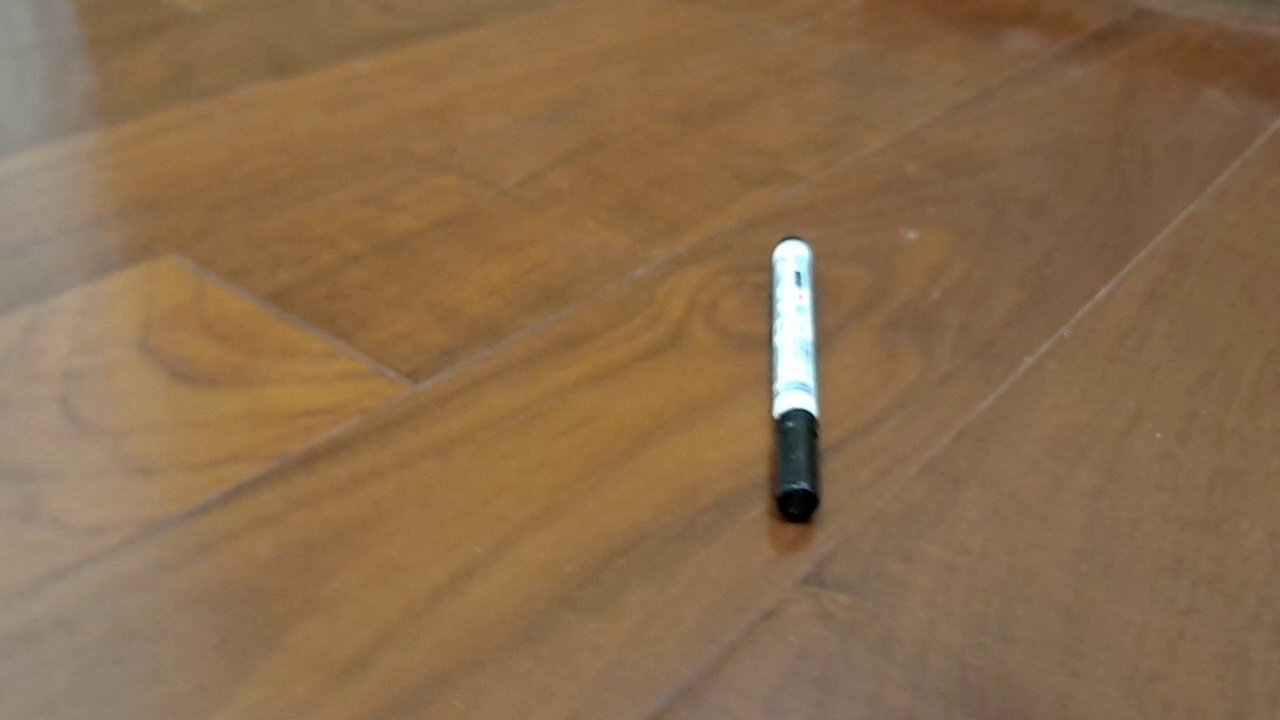pen: (770, 236, 821, 525)
